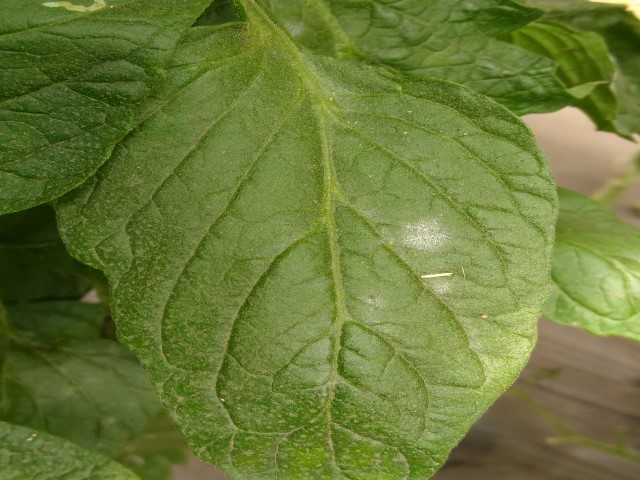oidio: (402, 213, 447, 254), (429, 279, 461, 304)
